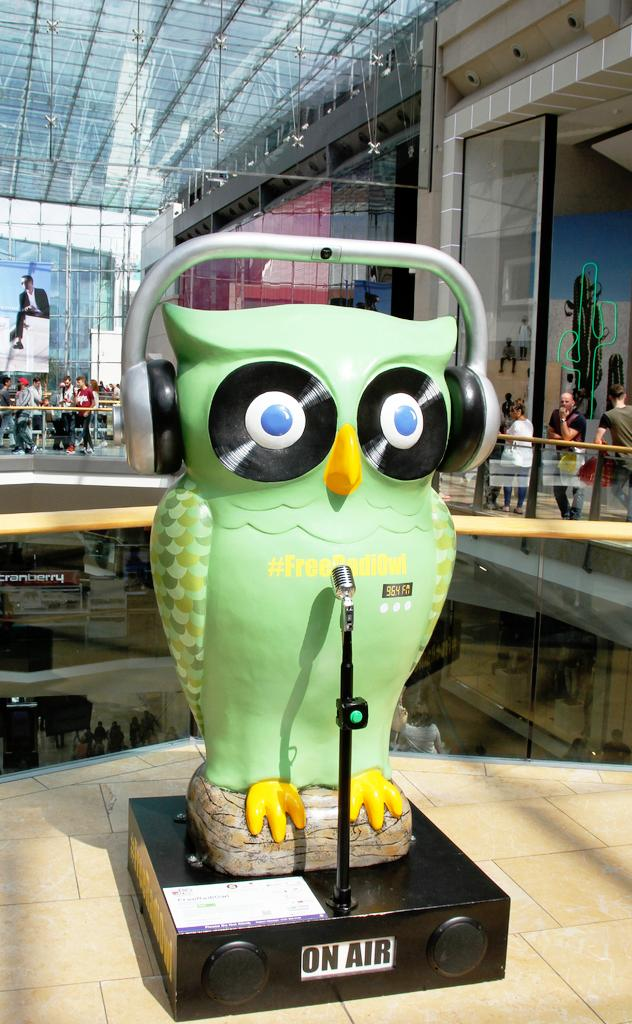Owl: (152, 300, 463, 855)
